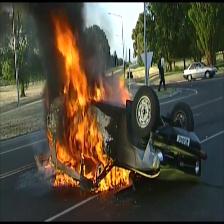fire_h: (54, 14, 113, 181), (95, 167, 130, 191), (53, 167, 80, 187), (93, 68, 107, 101)
fire_l: (34, 154, 55, 171), (119, 76, 131, 104), (46, 130, 53, 149)
